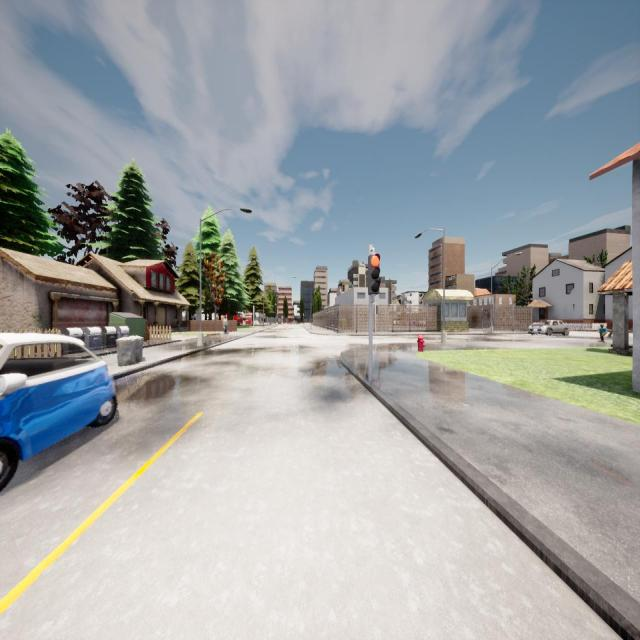Pedestrian: (600, 323, 606, 342), (223, 316, 228, 334)
Vehicle: (0, 332, 116, 486), (529, 320, 569, 335)
traffic_light: (368, 254, 379, 294), (376, 306, 378, 314), (254, 308, 255, 315), (303, 313, 304, 317)
